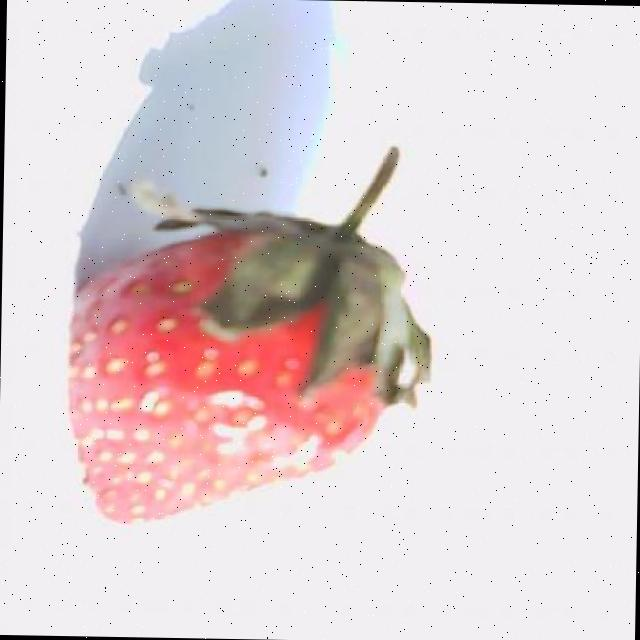strawberry: (70, 147, 428, 520)
